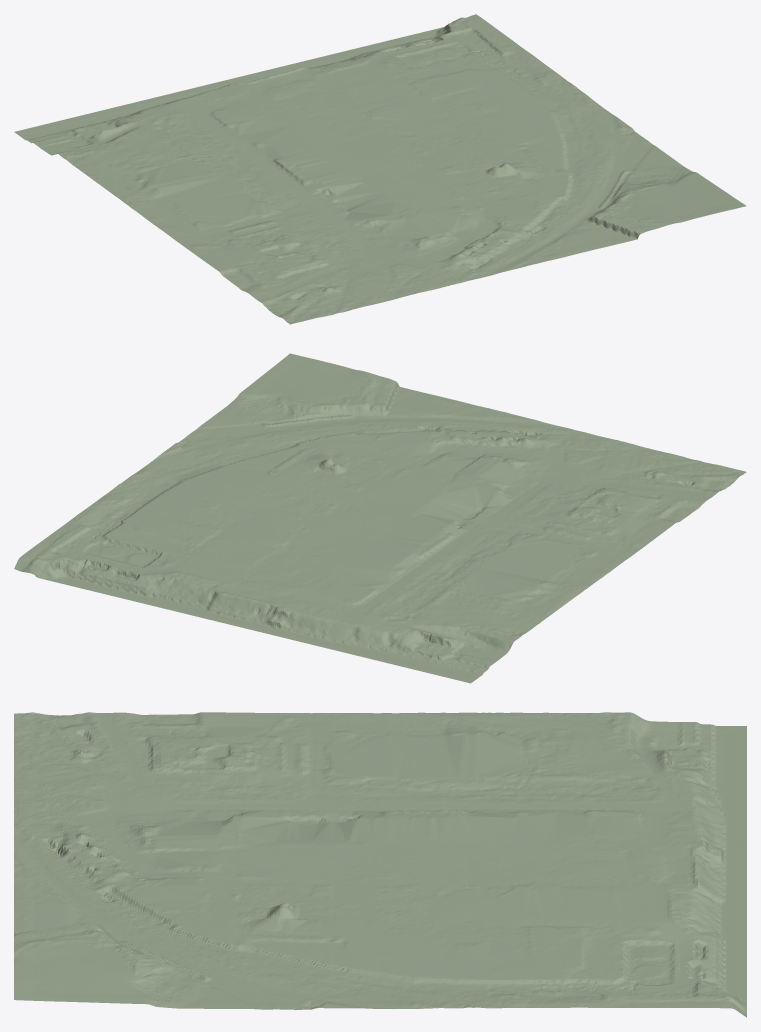
Rendered from ruedersdorf_r11_ground.glb.
3 views of the same model, one above another, from view 1: azimuth 30°, elevation 25°; view 2: azimuth 150°, elevation 25°; view 3: azimuth 270°, elevation 25° (orthographic). The views are drawn at different scales.
Bounding box in the file's own units: 16.91 × 0.6712 × 17.7.
